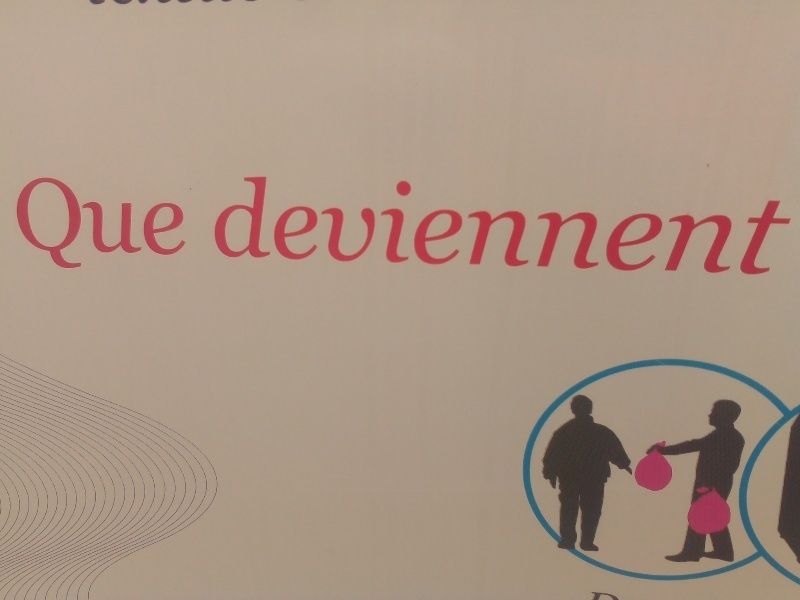text: (225, 171, 240, 276), (241, 171, 256, 276), (257, 171, 272, 276), (273, 171, 288, 276), (289, 171, 304, 276), (305, 171, 320, 276), (321, 171, 336, 276), (337, 171, 352, 276), (353, 171, 368, 276), (369, 171, 384, 276), (385, 171, 400, 276), (401, 171, 416, 276), (417, 171, 432, 276), (433, 171, 448, 276), (449, 171, 464, 276), (465, 171, 480, 276), (481, 171, 496, 276), (497, 171, 512, 276), (513, 171, 528, 276), (529, 171, 544, 276), (545, 171, 560, 276), (561, 171, 576, 276), (577, 171, 592, 276), (593, 171, 608, 276), (609, 171, 624, 276), (625, 171, 640, 276), (641, 171, 656, 276), (657, 171, 672, 276), (673, 171, 688, 276), (689, 171, 704, 276), (705, 171, 720, 276), (721, 171, 736, 276), (737, 171, 752, 276), (753, 171, 768, 276), (769, 171, 784, 276), (17, 178, 32, 270), (33, 178, 48, 270), (49, 178, 64, 270), (65, 178, 80, 270), (81, 178, 96, 270), (97, 178, 112, 270), (113, 178, 128, 270), (129, 178, 144, 270), (145, 178, 160, 270), (161, 178, 176, 270), (785, 171, 797, 276), (177, 178, 187, 270), (217, 171, 224, 276)
